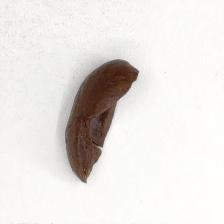NG: (78, 72, 141, 183)
